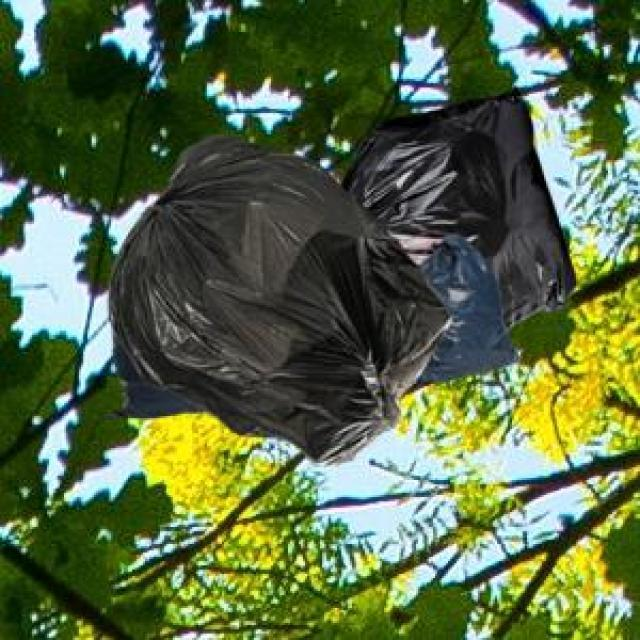waste: (109, 132, 446, 448), (358, 95, 584, 341)
